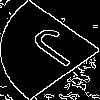J: (25, 24, 97, 76)
